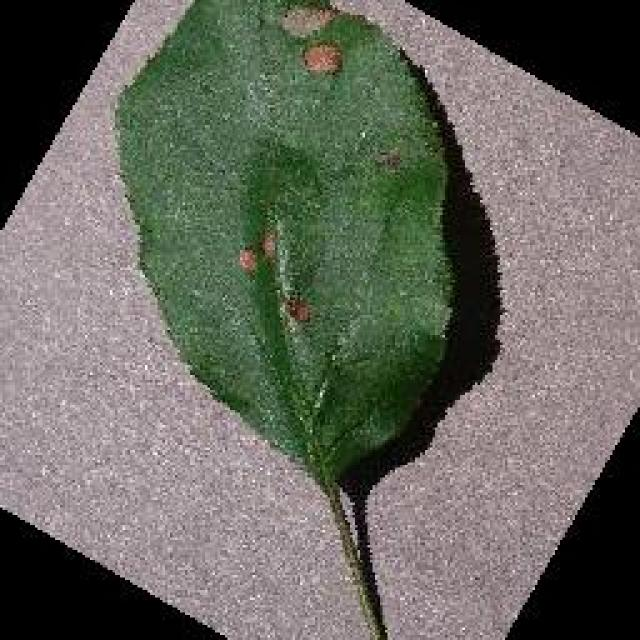Black_rot: (0, 0, 638, 638), (110, 0, 458, 490)
